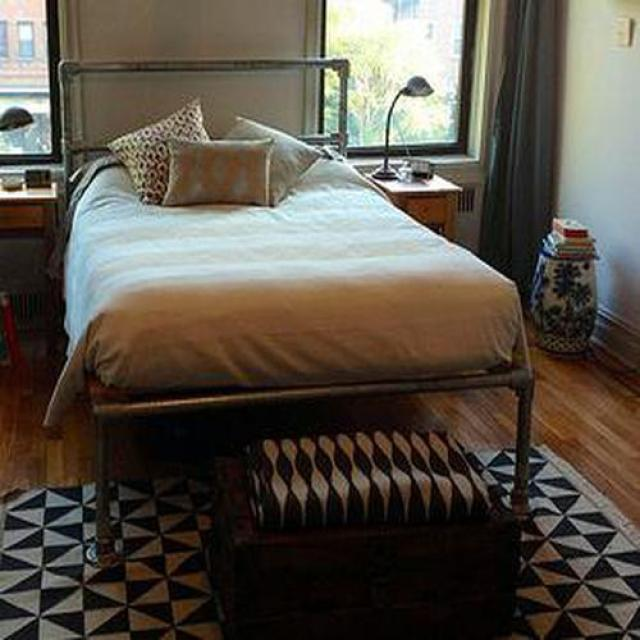bed: (45, 56, 535, 567)
